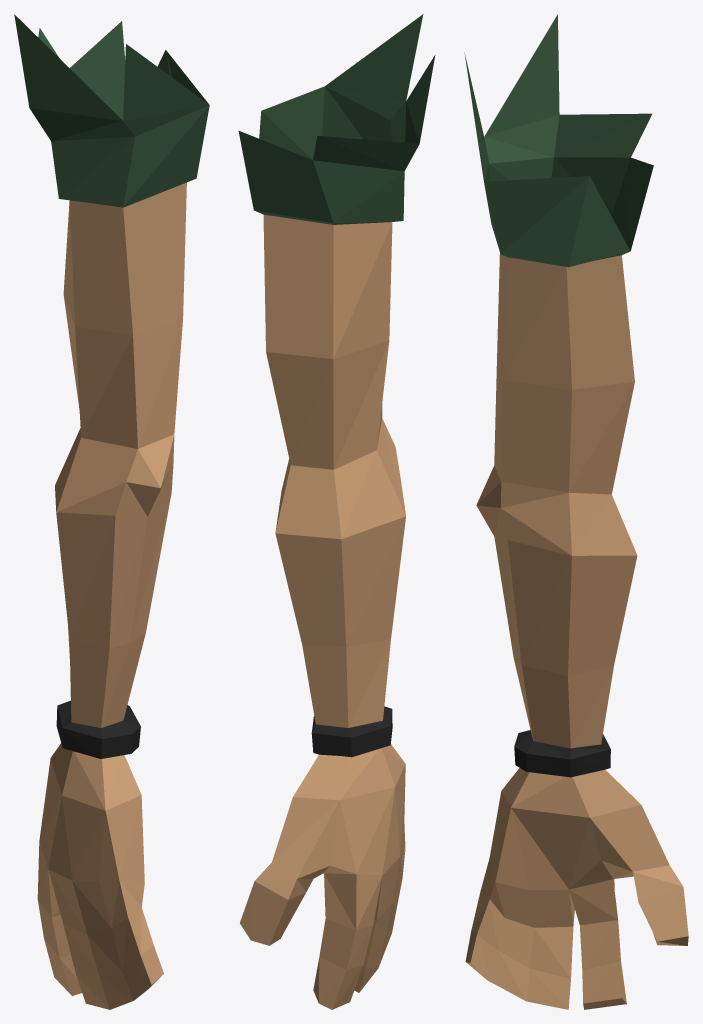
Rendered from ArmL.obj.
The picture shows the model from 3 angles, left to right: view 1: azimuth 30°, elevation 25°; view 2: azimuth 150°, elevation 25°; view 3: azimuth 270°, elevation 25°; orthographic projection. The views are drawn at different scales.
Size of the model in its own units: 0.1602 by 0.892 by 0.1892.
Materials: 1 (1 with a texture image).
